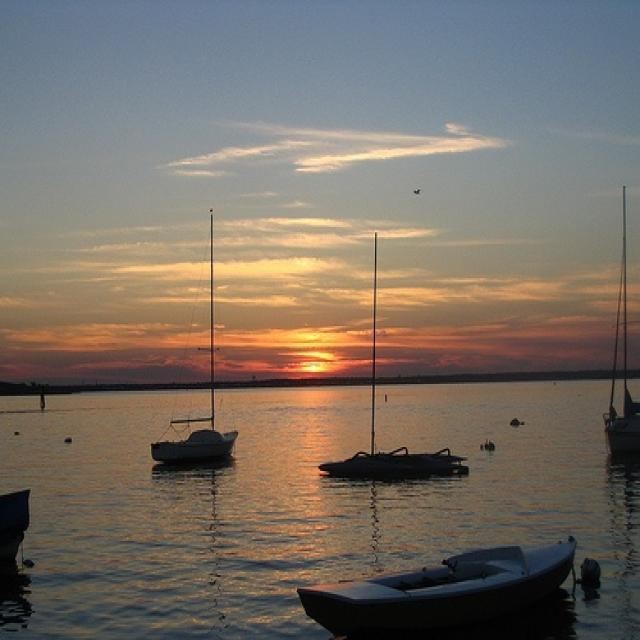boat: (318, 230, 468, 480), (294, 536, 575, 638), (150, 208, 238, 466), (600, 185, 639, 474)
